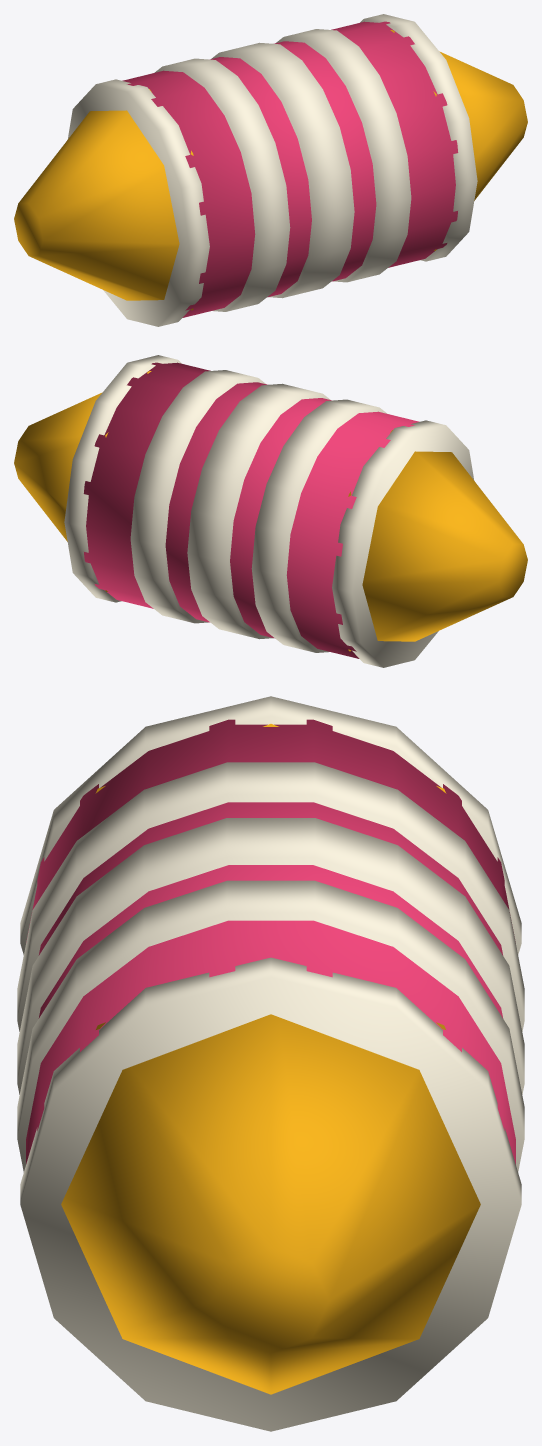
Rendered from candy.glb.
3 renders of one model, top to bottom at view 1: azimuth 30°, elevation 25°; view 2: azimuth 150°, elevation 25°; view 3: azimuth 270°, elevation 25°, orthographic. The views are drawn at different scales.
Visible parts, largest first — view 1: candy; view 2: candy; view 3: candy.
Boxes of the visible parts, x1,y1,x2,y2 form: candy: [14, 14, 527, 326]; candy: [14, 355, 527, 667]; candy: [17, 696, 524, 1431].
Bounding box in the file's own units: 1 × 0.4479 × 0.4531.
1 material, 1 textured.
